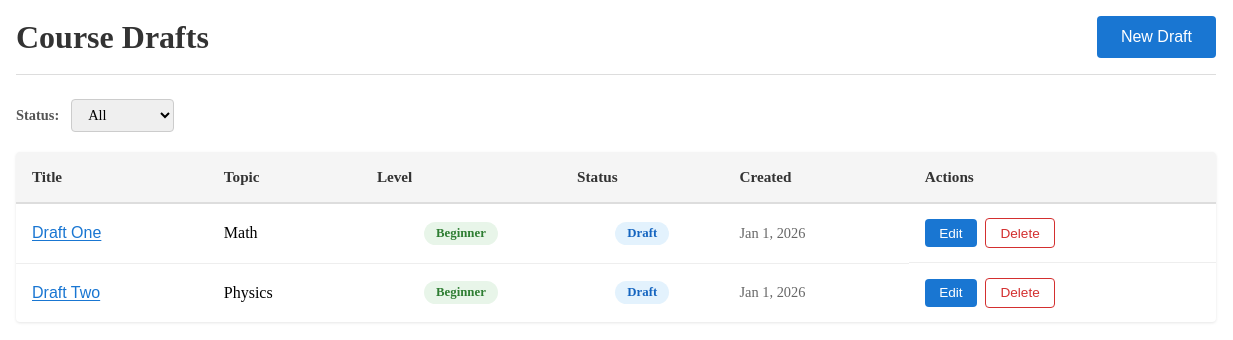
Scenario: DraftListView › DraftListView_DeleteSuccess_RemovesDraftFromList
Expected: the number of rows with class "draft-row" is 2, x1=16 y1=203 x2=1216 y2=263; x1=16 y1=263 x2=1216 y2=322
Click the button with class "delete-button" in the row of "Math": (1020, 233) x1=985 y1=218 x2=1055 y2=248
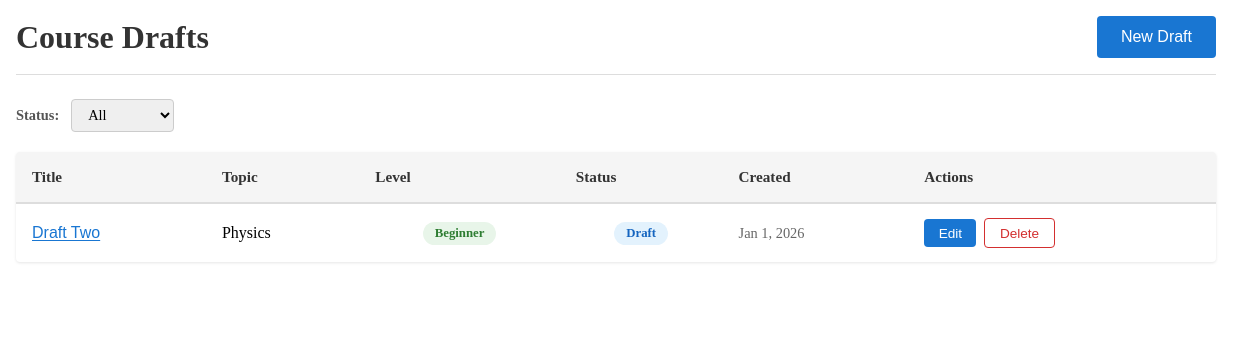
Expected: the text "Draft Two" is shown, x1=32 y1=224 x2=100 y2=242
Expected: the number of rows with class "draft-row" is 1, x1=16 y1=203 x2=1216 y2=262
Expected: the text "Draft One" is gone
